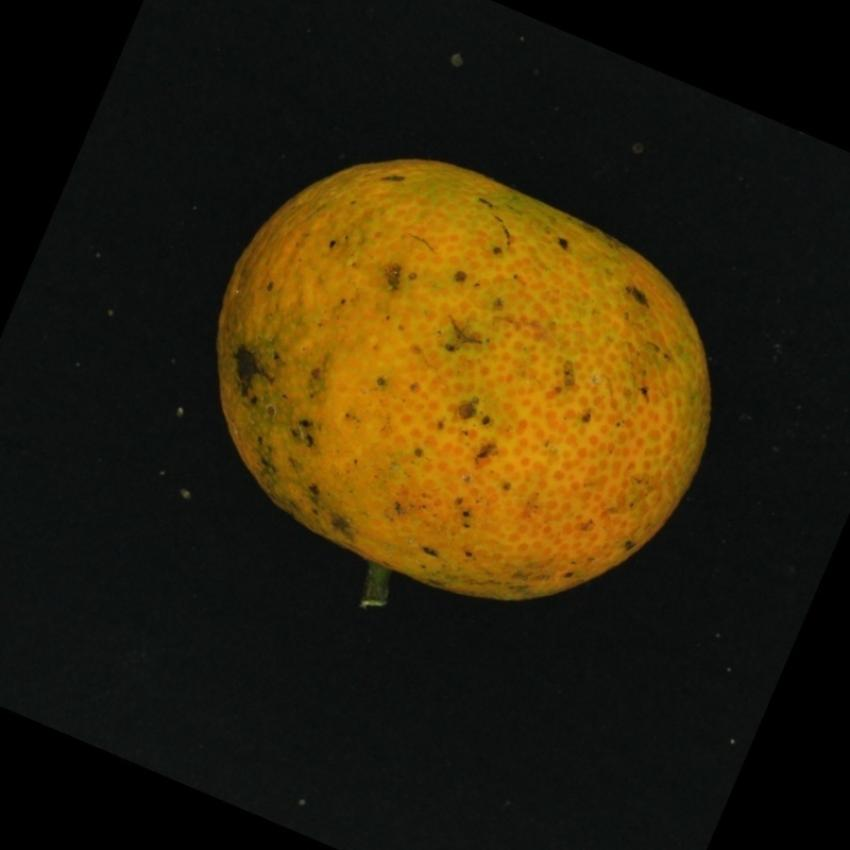Mal estado: (167, 117, 732, 610)
